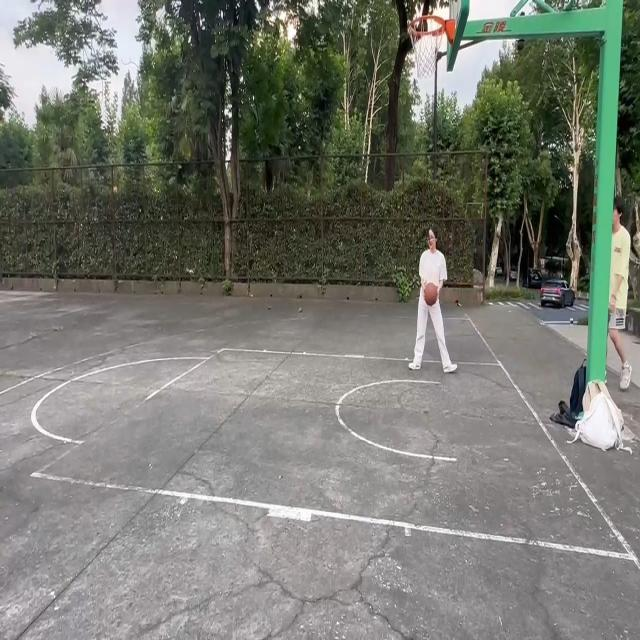basketball: (408, 11, 456, 78)
rim: (423, 281, 439, 305)
